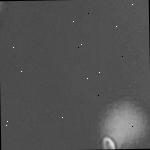colony: (93, 95, 150, 149), (0, 1, 16, 42)
